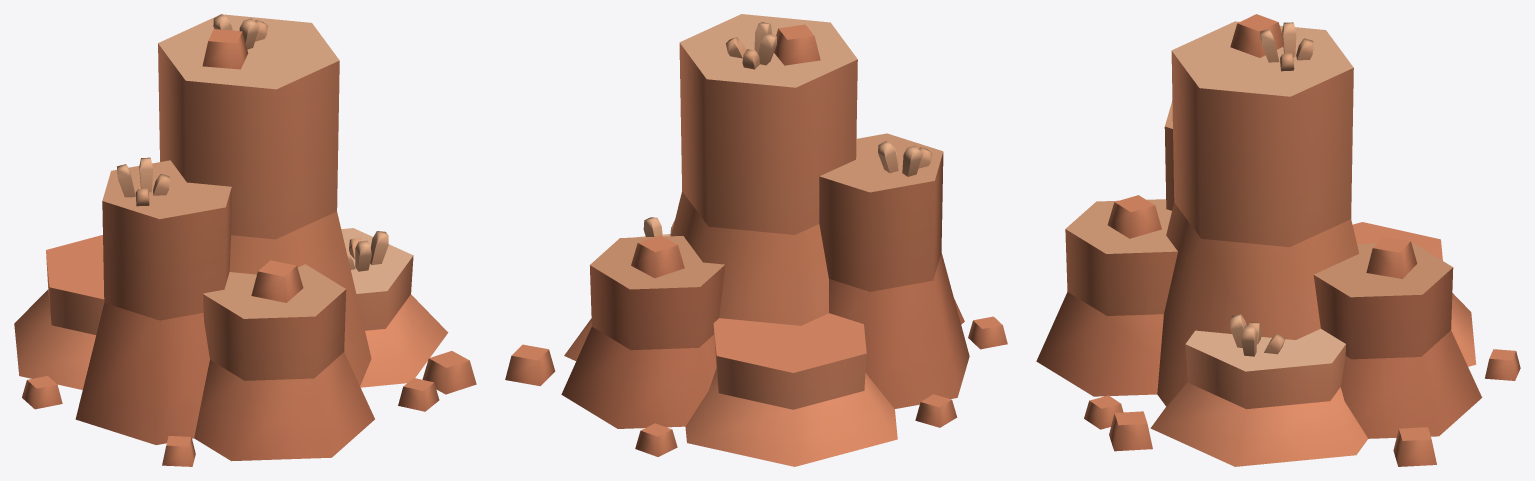
File: kenney-pirate-rocks-sand-b.glb
3 views of the same model, side by side, from view 1: azimuth 30°, elevation 25°; view 2: azimuth 150°, elevation 25°; view 3: azimuth 270°, elevation 25° (orthographic). The views are drawn at different scales.
Parts seen in each view (by area): view 1: rocks-sand-b; view 2: rocks-sand-b; view 3: rocks-sand-b.
Part boxes in pixels (box(x1,y1,x2,y2)): rocks-sand-b: box(14, 14, 476, 466); rocks-sand-b: box(505, 14, 1007, 466); rocks-sand-b: box(1036, 14, 1520, 466).
Size of the model in its own units: 4.38 by 3.71 by 4.71.
1 material, 1 textured.
